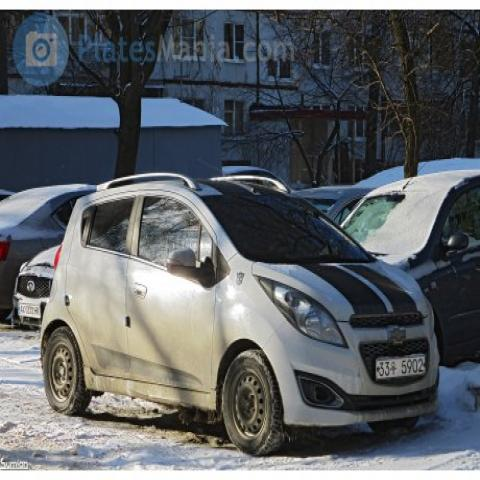LP: (371, 348, 430, 391)
